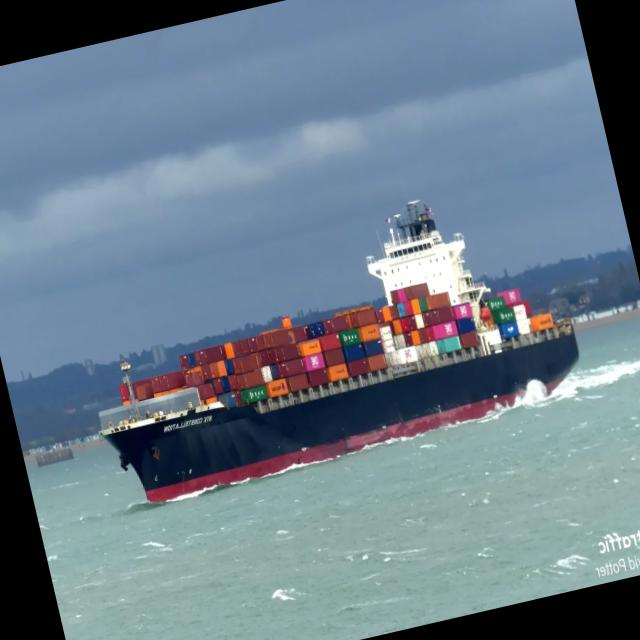Cargo: (102, 200, 578, 500)
